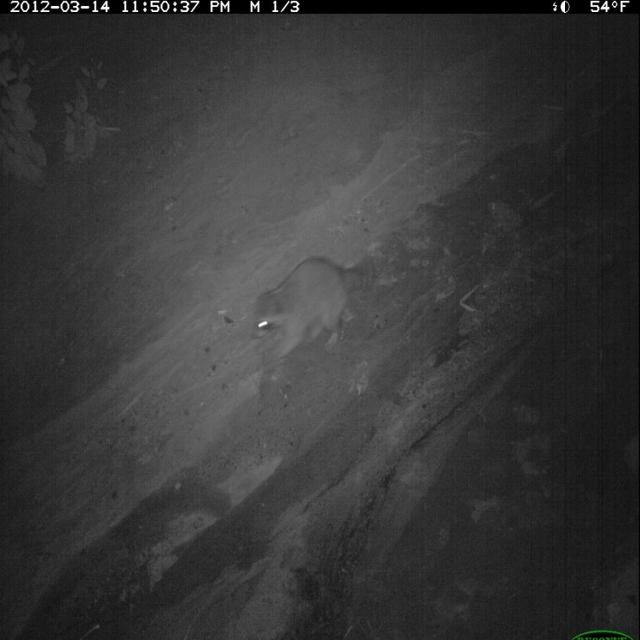raccoon: (247, 254, 383, 370)
